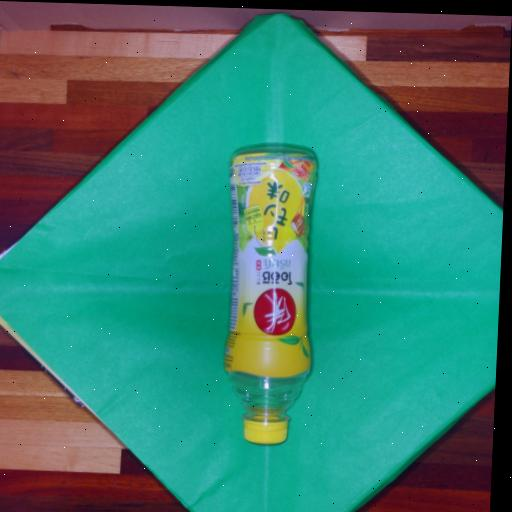bottle: (225, 148, 316, 443)
